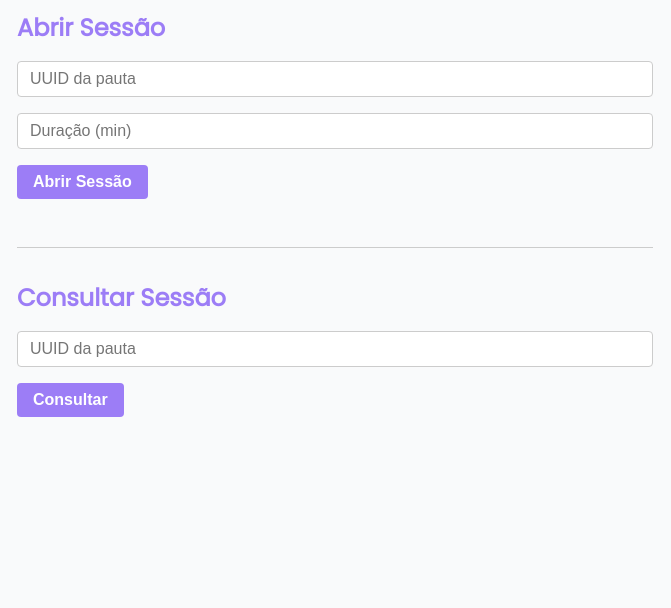
Scenario: OpenVotingSession › exibe informações da sessão ao consultar com sucesso
Step 1. Type "123e4567-e89b-12d3-a456-426614174000" into the field with placeholder "UUID da pauta" below "Consultar Sessão" → (335, 349), box [17,331,653,367]
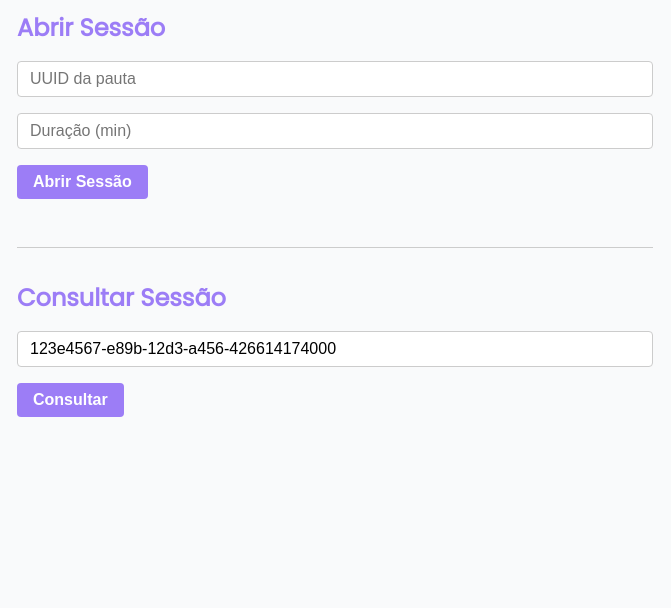
Step 2. Click the button "Consultar" → (70, 400), box [17,383,124,417]
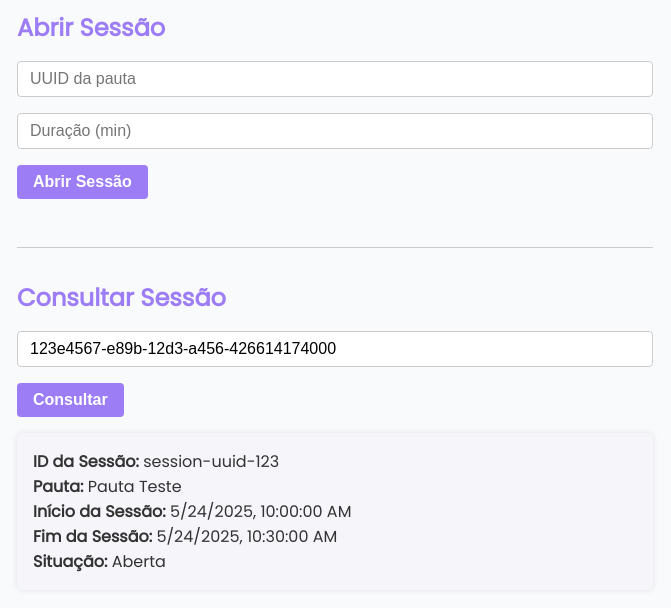
Expected: the text "ID da Sessão:" is shown, [33,450,139,473]
Expected: the text "ID da Sessão: session-uuid-123" is shown, [33,450,279,473]
Expected: the text "Pauta: Pauta Teste" is shown, [33,475,182,498]
